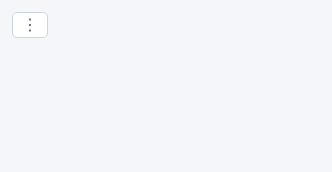
Test: MenuAcoes › ESC fecha o menu e devolve o foco ao botão ⋮, sem executar nenhuma ação
Click the button titled "Mais ações": (30, 25) [12, 12, 48, 38]
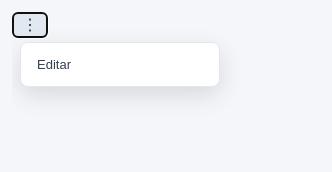
Check: the button titled "Mais ações" is expanded, box [12, 12, 48, 38]
Check: the button "Editar" is shown, box [27, 49, 213, 80]
Press Escape
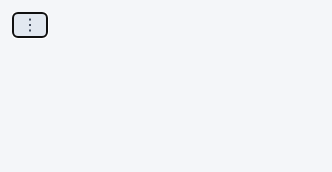
Check: the button "Editar" is gone
